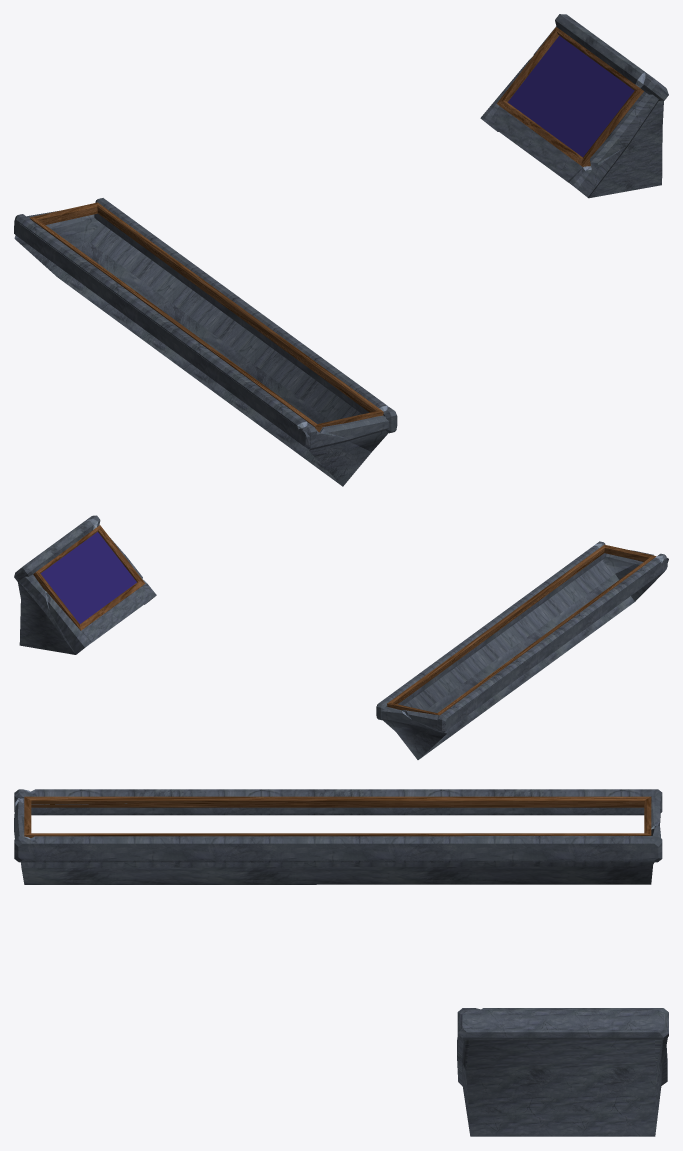
Rendered from s0_Str_Pannel_Time_01.glb.
3 renders of one model, top to bottom at view 1: azimuth 30°, elevation 25°; view 2: azimuth 150°, elevation 25°; view 3: azimuth 270°, elevation 25°, orthographic. The views are drawn at different scales.
Visible parts, largest first — view 1: node_Str_Pannel_Time; view 2: node_Str_Pannel_Time; view 3: node_Str_Pannel_Time.
Part boxes in pixels (x1=…): node_Str_Pannel_Time: x1=14, y1=14, x2=668, y2=486; node_Str_Pannel_Time: x1=14, y1=515, x2=668, y2=759; node_Str_Pannel_Time: x1=14, y1=789, x2=668, y2=1136.
Size of the model in its own units: 7.35 by 1.69 by 6.71.
Materials: 4 (3 with a texture image).
